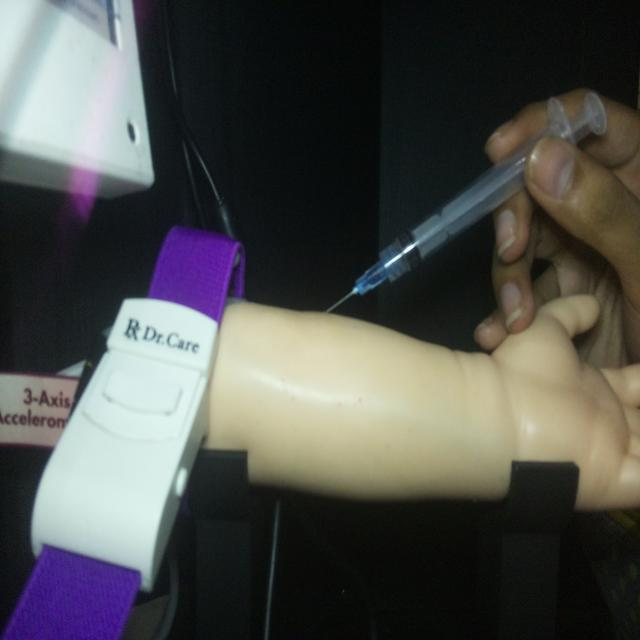27 degrees: (323, 87, 608, 316)
